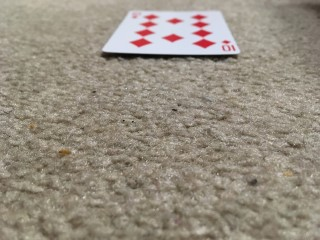TenOfDiamonds: (101, 11, 240, 55)
